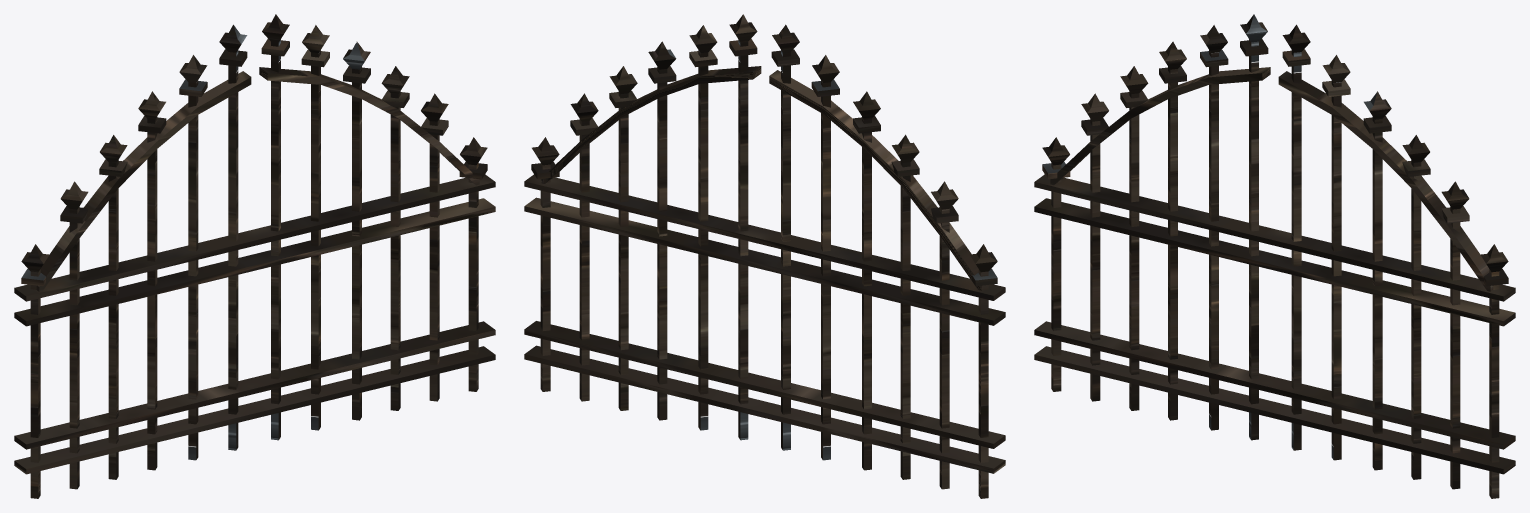
The model's file is Z_tiemen.fbx.
3 views of the same model, side by side, from view 1: azimuth 30°, elevation 25°; view 2: azimuth 150°, elevation 25°; view 3: azimuth 330°, elevation 25° (orthographic).
Visible parts, largest first — view 1: Z_tiemen; view 2: Z_tiemen; view 3: Z_tiemen.
Part boxes in pixels (box(x1,y1,x2,y2)): Z_tiemen: box(14, 14, 495, 498); Z_tiemen: box(524, 14, 1005, 498); Z_tiemen: box(1034, 14, 1515, 498).
Size of the model in its own units: 569 by 491 by 34.17.
